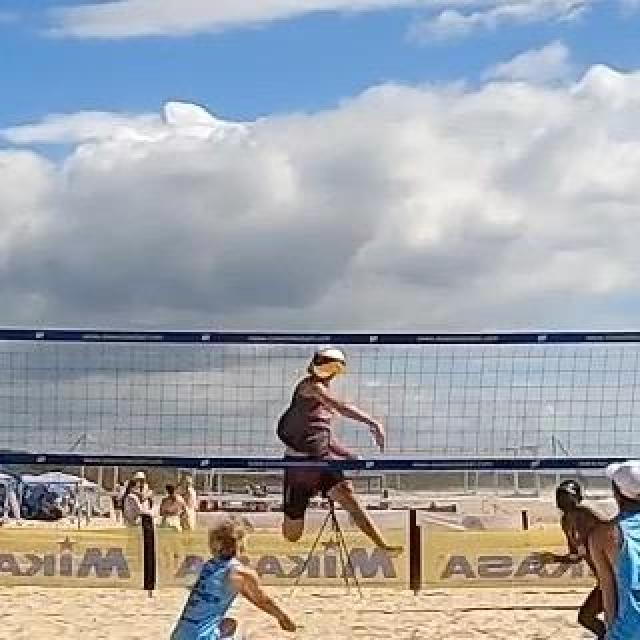volleyball: (312, 348, 344, 380)
